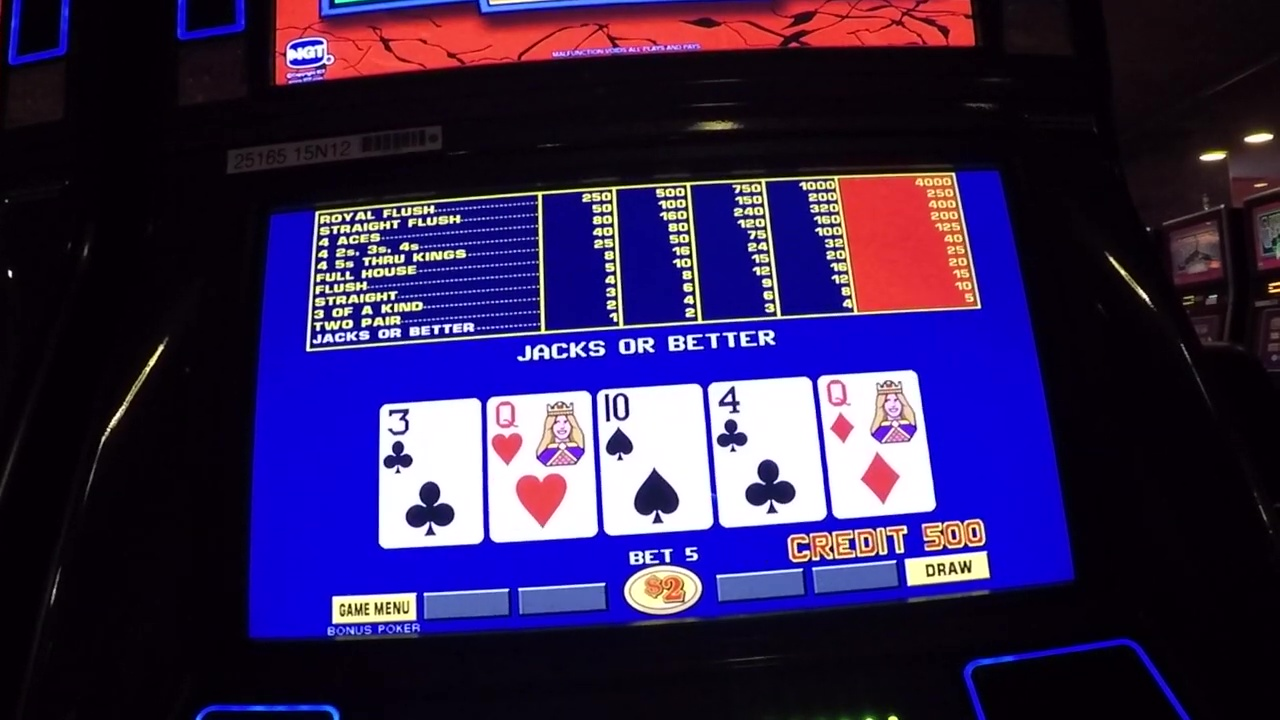C3: (384, 406, 479, 474)
C4: (715, 383, 815, 454)
DQ: (826, 376, 917, 446)
HQ: (490, 396, 590, 472)
ST: (602, 388, 702, 464)
